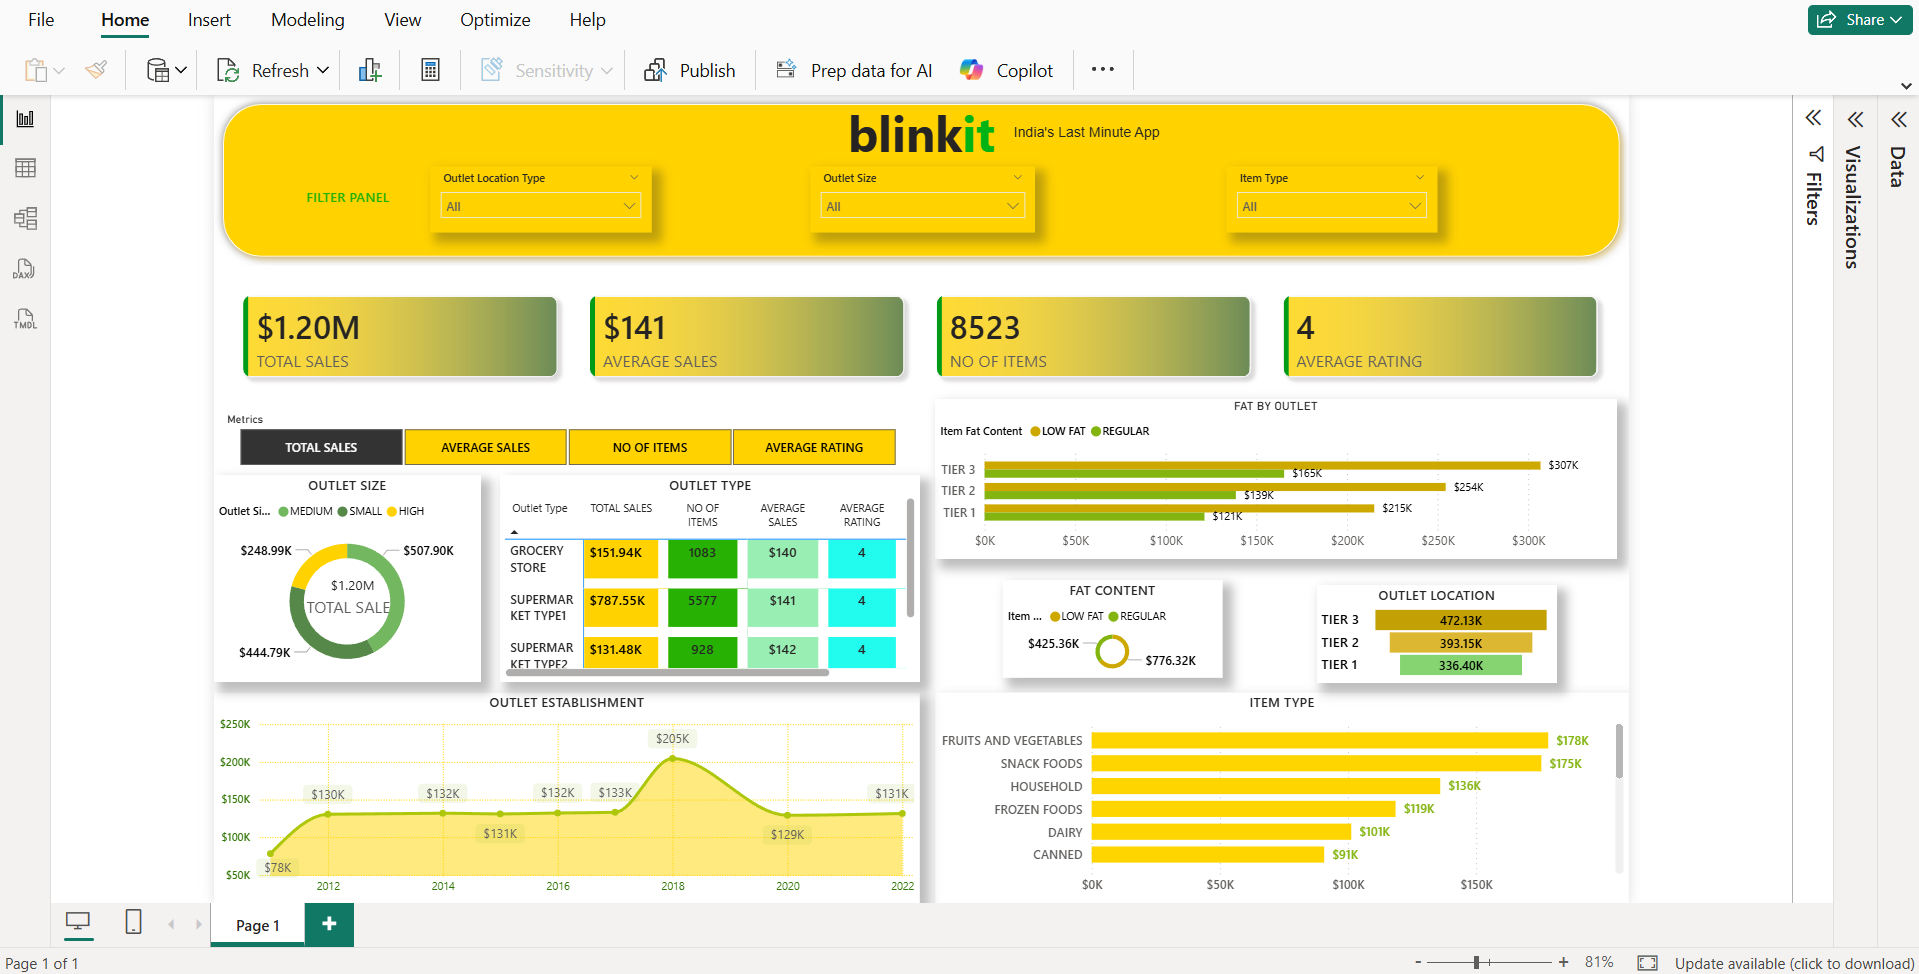

Layout of this report page (visuals, bound fields, positions):
{"tool":"powerbi","page":{"name":"Page 1","canvas":[1400,800],"ordinal":0},"visuals":[{"type":"shape","box":[0,0,1400,169],"z":0},{"type":"textbox","box":[0,0,1400,82.8],"z":1000},{"type":"textbox","box":[781.2,22.5,163.8,38.8],"z":2000},{"type":"cardVisual","fields":{"Data":["BlinkIT Grocery Data.TOTAL SALES","BlinkIT Grocery Data.AVERAGE SALES","BlinkIT Grocery Data.NO OF ITEMS","BlinkIT Grocery Data.AVERAGE RATING"]},"box":[0,169,1400,139.7],"z":3000},{"type":"donutChart","title":"FAT CONTENT ","fields":{"Y":["BlinkIT Grocery Data.TOTAL SALES"],"Category":["BlinkIT Grocery Data.Item Fat Content"]},"box":[781,479.3,217.2,96.6],"z":5000},{"type":"slicer","fields":{"Values":["Metrics.Metrics"]},"box":[0,308.6,698.3,63.8],"z":6000},{"type":"cardVisual","fields":{"Data":["BlinkIT Grocery Data.TOTAL SALES"]},"box":[62.1,458.6,151.7,74.1],"z":7000},{"type":"clusteredBarChart","title":"FAT BY OUTLET","fields":{"Y":["BlinkIT Grocery Data.TOTAL SALES"],"Category":["BlinkIT Grocery Data.Outlet Location Type"],"Series":["BlinkIT Grocery Data.Item Fat Content"]},"box":[713.8,300,674.1,158.6],"z":8000},{"type":"barChart","title":"ITEM TYPE ","fields":{"Y":["BlinkIT Grocery Data.TOTAL SALES"],"Category":["BlinkIT Grocery Data.Item Type"]},"box":[713.8,591.4,686.2,208.6],"z":9000},{"type":"lineChart","title":"OUTLET ESTABLISHMENT ","fields":{"Y":["BlinkIT Grocery Data.TOTAL SALES"],"Category":["BlinkIT Grocery Data.Outlet Establishment Year"]},"box":[0,591.4,698.3,208.6],"z":11000},{"type":"donutChart","title":"OUTLET SIZE","fields":{"Y":["BlinkIT Grocery Data.TOTAL SALES"],"Category":["BlinkIT Grocery Data.Outlet Size"]},"box":[0,375.9,263.8,205.2],"z":12000},{"type":"funnel","title":"OUTLET LOCATION","fields":{"Category":["BlinkIT Grocery Data.Outlet Location Type"],"Y":["Sum(BlinkIT Grocery Data.Sales)"]},"box":[1091.4,484.5,237.9,96.6],"z":13000},{"type":"pivotTable","title":"OUTLET TYPE","fields":{"Rows":["BlinkIT Grocery Data.Outlet Type"],"Values":["BlinkIT Grocery Data.TOTAL SALES","BlinkIT Grocery Data.NO OF ITEMS","BlinkIT Grocery Data.AVERAGE SALES","BlinkIT Grocery Data.AVERAGE RATING","Avg(BlinkIT Grocery Data.Item Visibility)"]},"box":[282.8,375.9,415.5,205.2],"z":14000},{"type":"slicer","fields":{"Values":["BlinkIT Grocery Data.Outlet Location Type"]},"box":[213.8,70.7,219,65.5],"z":15000},{"type":"slicer","fields":{"Values":["BlinkIT Grocery Data.Outlet Size"]},"box":[589.7,70.7,222.4,65.5],"z":16000},{"type":"slicer","fields":{"Values":["BlinkIT Grocery Data.Item Type"]},"box":[1001.7,70.7,208.6,65.5],"z":17000},{"type":"textbox","box":[72.4,86.2,119,34.5],"z":18000}]}

Visuals, with their boxes on the page's 1400x800 design canvas (x1, y1, x2, y2). These are canvas units, not pixel positions in the 1919x974 screenshot, which may show the page scaled, cropped or inside an application window:
shape: box=[0, 0, 1400, 169]
textbox: box=[0, 0, 1400, 83]
textbox: box=[781, 22, 945, 61]
cardVisual - BlinkIT Grocery Data.TOTAL SALES x BlinkIT Grocery Data.AVERAGE SALES: box=[0, 169, 1400, 309]
"FAT CONTENT " donutChart: box=[781, 479, 998, 576]
slicer - Metrics.Metrics: box=[0, 309, 698, 372]
cardVisual - BlinkIT Grocery Data.TOTAL SALES: box=[62, 459, 214, 533]
"FAT BY OUTLET" clusteredBarChart: box=[714, 300, 1388, 459]
"ITEM TYPE " barChart: box=[714, 591, 1400, 800]
"OUTLET ESTABLISHMENT " lineChart: box=[0, 591, 698, 800]
"OUTLET SIZE" donutChart: box=[0, 376, 264, 581]
"OUTLET LOCATION" funnel: box=[1091, 484, 1329, 581]
"OUTLET TYPE" pivotTable: box=[283, 376, 698, 581]
slicer - BlinkIT Grocery Data.Outlet Location Type: box=[214, 71, 433, 136]
slicer - BlinkIT Grocery Data.Outlet Size: box=[590, 71, 812, 136]
slicer - BlinkIT Grocery Data.Item Type: box=[1002, 71, 1210, 136]
textbox: box=[72, 86, 191, 121]
